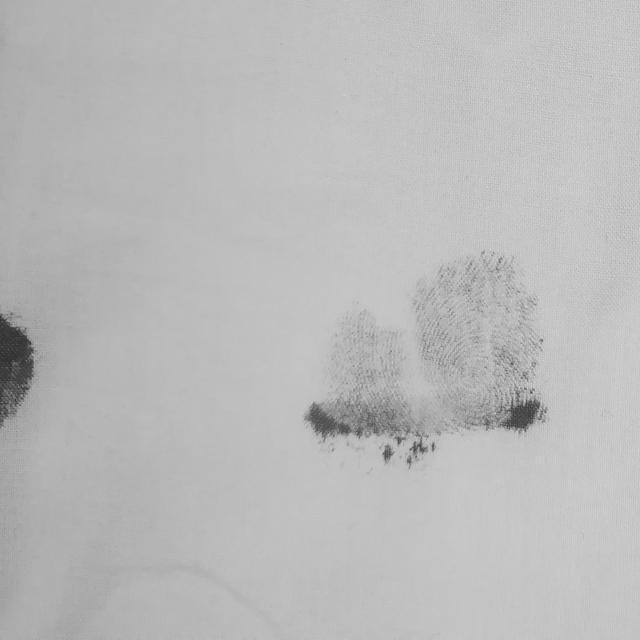Stain: (305, 251, 547, 466), (0, 314, 33, 426)
